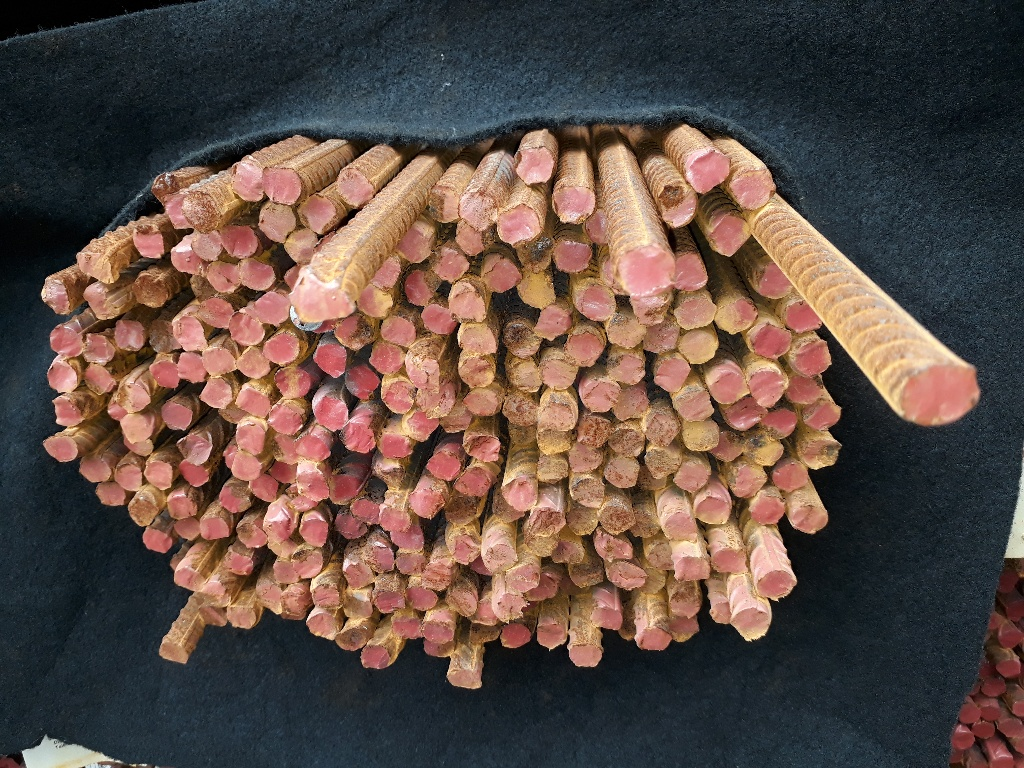dipstick: (899, 360, 979, 424), (296, 273, 350, 320), (621, 249, 672, 291), (732, 170, 775, 208), (498, 206, 539, 243), (691, 151, 728, 190), (712, 217, 749, 255), (554, 186, 594, 221), (675, 388, 715, 423), (184, 194, 220, 232), (482, 256, 521, 291), (716, 299, 757, 332), (337, 167, 373, 204), (517, 148, 552, 185), (300, 195, 334, 233), (794, 340, 830, 375), (264, 169, 301, 203), (578, 287, 615, 321), (753, 326, 791, 359), (630, 291, 670, 322), (676, 298, 716, 329), (259, 205, 295, 239), (461, 195, 497, 229), (417, 384, 455, 416), (663, 187, 695, 225), (521, 273, 555, 308), (505, 358, 540, 392), (682, 331, 717, 365), (84, 287, 119, 320), (644, 412, 679, 445), (757, 266, 792, 299), (674, 255, 707, 290), (750, 372, 786, 404), (132, 275, 166, 308), (567, 333, 601, 366), (711, 370, 745, 403), (733, 608, 768, 640), (655, 360, 690, 392), (724, 402, 764, 430), (503, 393, 539, 424), (541, 360, 578, 390), (581, 383, 619, 412), (607, 319, 645, 348), (750, 494, 784, 526), (275, 367, 310, 398), (382, 380, 413, 415), (646, 319, 677, 354), (429, 186, 459, 222), (336, 318, 372, 348), (593, 533, 633, 560), (222, 227, 256, 258), (265, 333, 299, 364), (75, 254, 114, 281), (609, 355, 644, 385), (41, 279, 70, 315), (458, 358, 494, 387), (759, 572, 797, 599), (399, 229, 430, 262), (198, 298, 231, 329), (179, 432, 212, 463), (536, 308, 569, 339), (519, 239, 553, 269), (265, 508, 294, 543), (695, 496, 730, 525), (609, 427, 644, 456), (805, 439, 840, 468), (684, 422, 719, 451), (613, 391, 648, 420), (409, 489, 445, 517), (747, 437, 783, 465), (788, 375, 824, 403), (257, 292, 288, 324), (174, 318, 206, 349), (231, 312, 263, 343), (46, 361, 77, 393), (236, 346, 269, 376), (436, 250, 469, 280), (317, 396, 347, 429), (505, 477, 535, 510), (664, 512, 697, 542), (505, 326, 538, 356), (528, 510, 566, 536), (371, 344, 405, 373), (460, 326, 494, 355), (205, 263, 240, 291), (239, 260, 274, 288), (773, 464, 809, 491), (785, 303, 822, 329), (133, 225, 163, 257), (287, 231, 317, 263), (316, 346, 346, 378), (344, 422, 376, 452), (446, 496, 478, 526), (357, 288, 390, 317), (237, 387, 270, 416), (555, 243, 588, 272), (451, 293, 485, 321), (371, 586, 405, 614), (569, 445, 603, 473), (731, 468, 765, 496), (711, 548, 749, 573), (538, 403, 573, 430), (805, 403, 840, 430), (50, 326, 81, 356), (605, 458, 636, 488), (405, 272, 433, 305), (406, 412, 440, 439), (149, 321, 179, 351), (635, 626, 671, 651), (792, 507, 828, 532), (567, 507, 597, 537), (204, 348, 236, 376), (347, 368, 379, 396), (375, 458, 407, 486), (428, 451, 460, 479), (457, 469, 489, 497), (648, 450, 680, 478), (270, 405, 303, 432), (43, 436, 78, 461), (568, 563, 603, 588), (608, 563, 643, 588), (53, 398, 83, 427), (409, 360, 438, 390), (237, 423, 265, 454), (572, 478, 603, 506), (382, 317, 414, 344), (600, 506, 633, 532), (83, 335, 113, 363), (537, 456, 567, 484), (84, 366, 115, 393), (578, 418, 609, 445), (118, 385, 150, 411), (423, 308, 455, 334), (298, 434, 330, 460), (676, 557, 709, 582), (115, 321, 143, 350), (203, 378, 232, 406), (466, 388, 495, 416), (498, 593, 527, 621), (178, 353, 205, 383), (162, 402, 192, 429), (282, 589, 309, 619), (121, 415, 152, 441), (378, 436, 413, 459), (79, 457, 111, 482), (506, 566, 538, 591), (329, 475, 357, 503), (170, 247, 199, 274), (128, 496, 155, 525), (718, 433, 747, 460), (380, 506, 411, 531), (500, 623, 531, 648), (395, 551, 427, 575), (537, 430, 570, 453), (166, 193, 187, 229), (192, 232, 220, 259), (529, 575, 557, 602), (768, 410, 796, 437), (343, 592, 372, 618), (647, 541, 673, 570), (298, 474, 328, 499), (173, 567, 203, 592), (446, 591, 476, 616), (677, 465, 707, 490), (360, 644, 391, 668), (406, 586, 437, 610), (591, 606, 622, 630), (467, 437, 499, 460), (569, 643, 601, 666), (301, 518, 328, 545), (146, 461, 172, 489), (250, 476, 278, 502), (365, 544, 393, 570), (450, 536, 478, 562), (537, 622, 565, 648), (272, 435, 297, 464), (337, 515, 366, 540), (256, 584, 281, 613), (494, 496, 523, 521), (306, 614, 336, 638), (670, 593, 700, 617), (587, 210, 608, 244), (219, 488, 250, 511), (150, 175, 177, 201), (294, 551, 321, 577), (346, 563, 373, 589), (456, 225, 481, 253), (116, 463, 141, 491), (447, 669, 482, 689), (632, 513, 660, 538), (336, 626, 365, 650), (422, 566, 451, 590), (142, 529, 172, 552), (423, 620, 454, 642), (152, 361, 178, 387), (232, 455, 259, 480), (487, 545, 514, 570), (374, 260, 398, 288), (97, 483, 125, 507), (352, 500, 380, 524), (313, 584, 341, 608), (638, 466, 665, 490), (180, 463, 208, 486), (392, 531, 422, 552), (672, 618, 698, 642), (227, 606, 255, 628), (167, 495, 196, 516), (200, 518, 229, 539), (441, 410, 470, 431), (158, 643, 188, 663), (199, 604, 226, 626), (553, 543, 584, 562), (393, 617, 421, 638), (528, 537, 557, 557), (273, 561, 298, 584), (469, 625, 499, 644), (225, 554, 252, 575), (643, 568, 664, 595), (477, 598, 496, 627), (204, 581, 229, 603), (239, 526, 265, 547), (190, 275, 212, 298), (509, 425, 537, 443), (271, 463, 296, 483), (123, 439, 154, 455), (175, 519, 199, 539), (107, 397, 126, 421), (711, 602, 730, 624), (219, 407, 245, 423), (424, 644, 455, 656), (222, 444, 236, 470)
